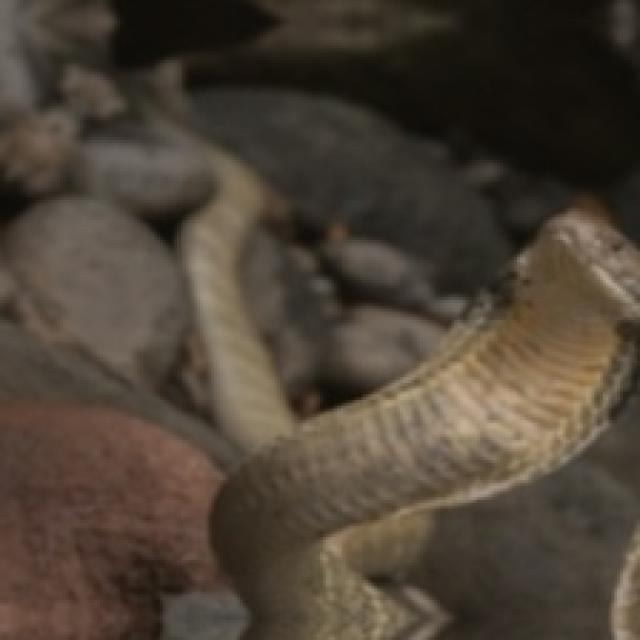king cobra: (146, 63, 637, 637)
